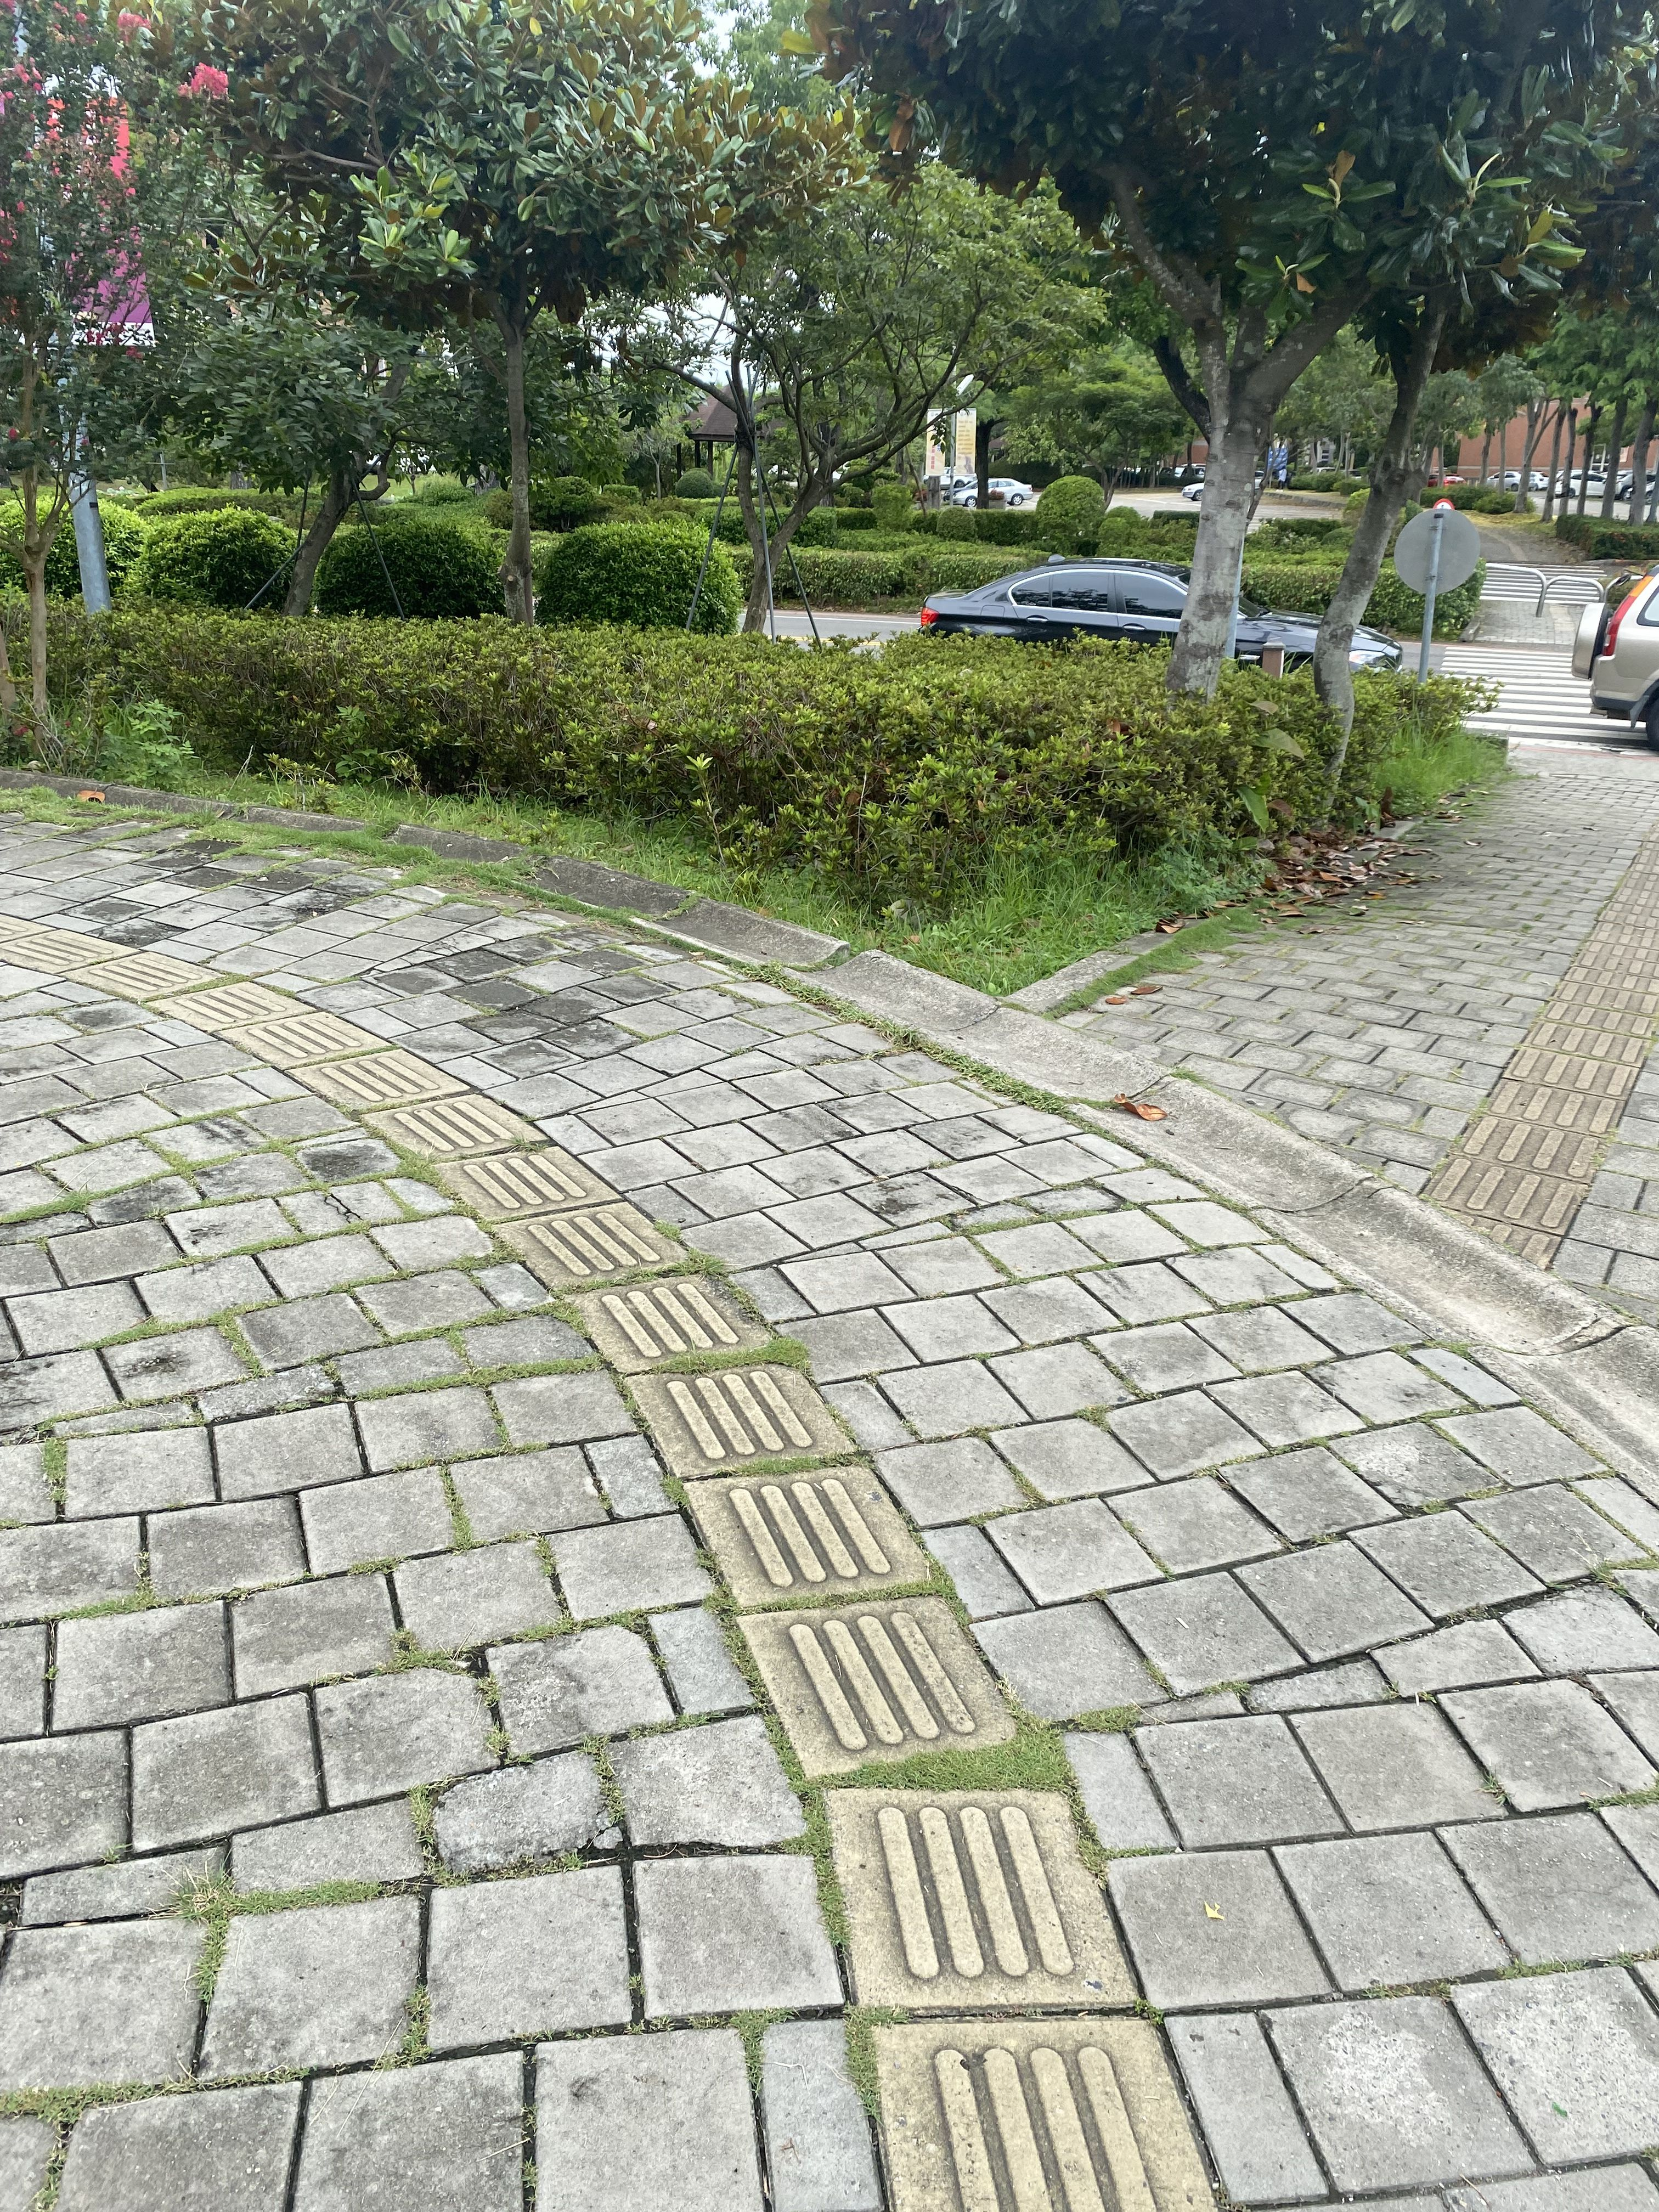sidewalk: (10, 740, 1659, 2212)
